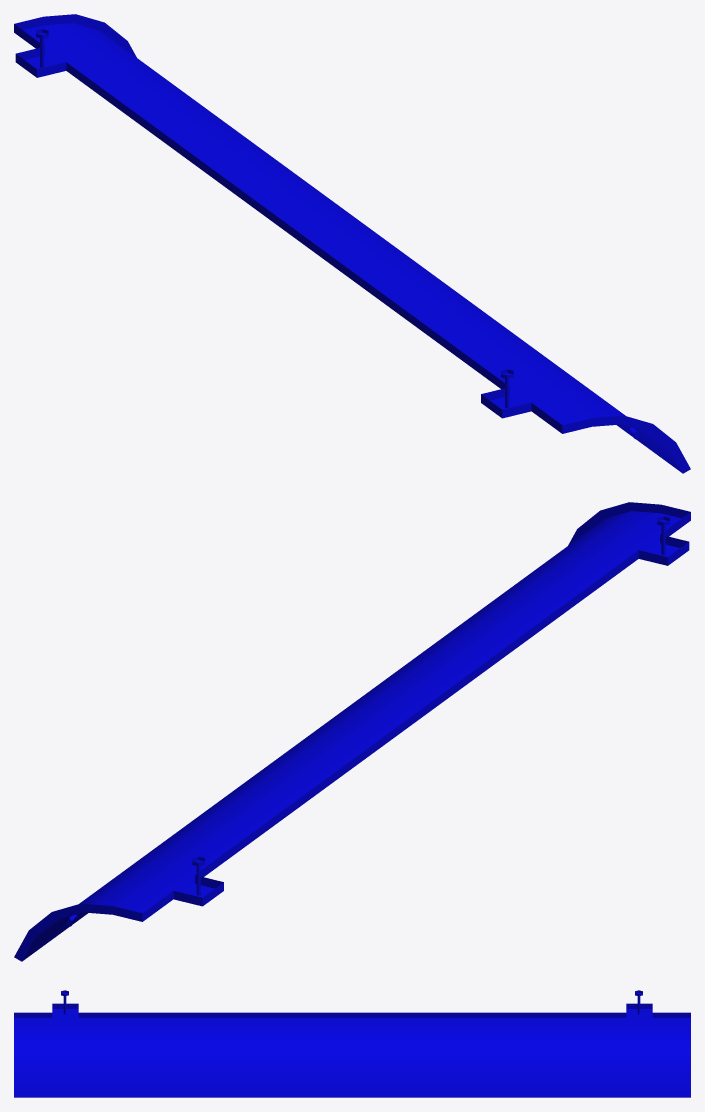
The model's file is HallCeilingPanelSpecial.fbx.
3 renders of one model, top to bottom at view 1: azimuth 30°, elevation 25°; view 2: azimuth 150°, elevation 25°; view 3: azimuth 270°, elevation 25°, orthographic. The views are drawn at different scales.
Parts seen in each view (by area): view 1: HallCeilingPanelSpecial; view 2: HallCeilingPanelSpecial; view 3: HallCeilingPanelSpecial.
Part boxes in pixels (<box>): HallCeilingPanelSpecial: <box>14,14,690,473</box>; HallCeilingPanelSpecial: <box>14,502,690,961</box>; HallCeilingPanelSpecial: <box>14,990,690,1097</box>.
Bounding box in the file's own units: 81.33 × 51.24 × 490.
